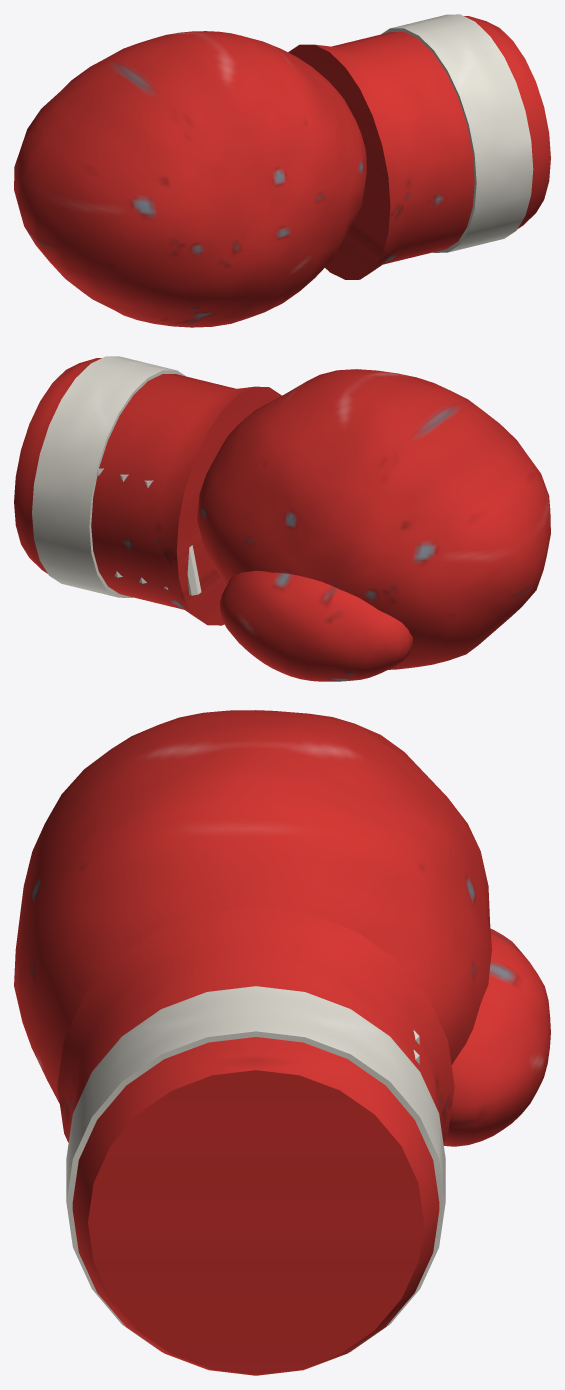
File: Punch.fbx
The picture shows the model from 3 angles, top to bottom: view 1: azimuth 30°, elevation 25°; view 2: azimuth 150°, elevation 25°; view 3: azimuth 270°, elevation 25°; orthographic projection. The views are drawn at different scales.
Parts seen in each view (by area): view 1: Punch; view 2: Punch; view 3: Punch.
Part boxes in pixels (x1=…): Punch: x1=14, y1=14, x2=550, y2=327; Punch: x1=14, y1=356, x2=550, y2=681; Punch: x1=14, y1=710, x2=550, y2=1375.
Size of the model in its own units: 0.5727 by 0.3135 by 0.3513.
2 materials, 2 textured.
